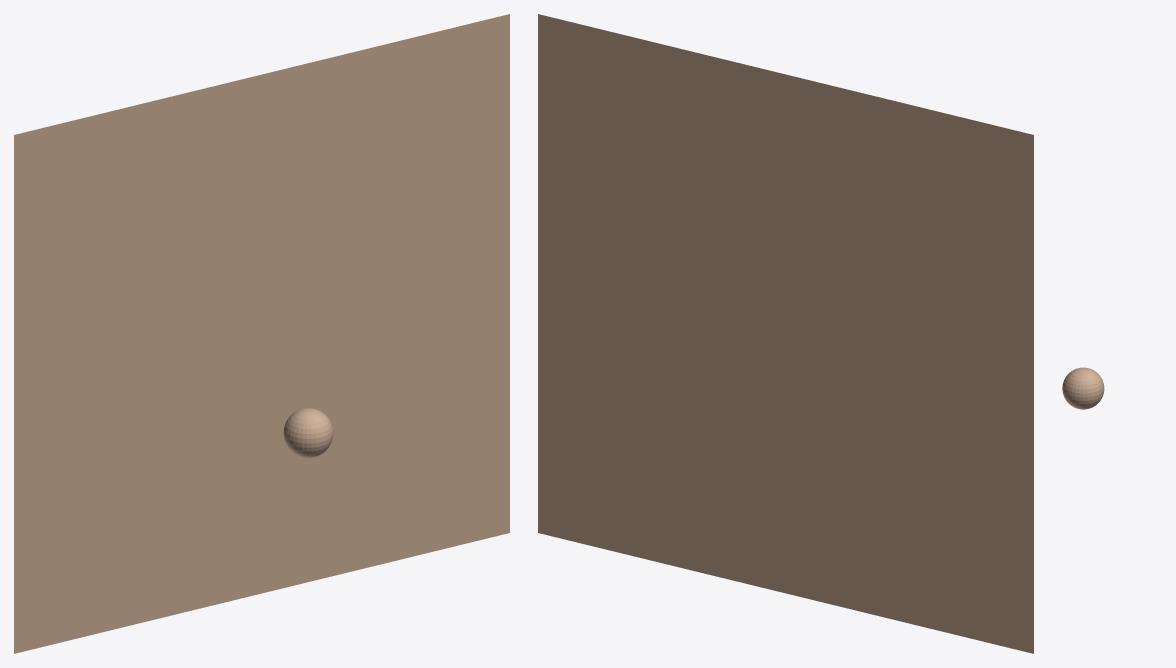
The picture shows the model from 3 angles, left to right: view 1: azimuth 30°, elevation 25°; view 2: azimuth 150°, elevation 25°; view 3: azimuth 270°, elevation 25°; orthographic projection. The views are drawn at different scales.
Parts seen in each view (by area): view 1: backdrop_studio_dark, head_neck_shoulder_eye_brow_nose_mouth_ear_hair_pedestal_blo; view 2: backdrop_studio_dark; view 3: head_neck_shoulder_eye_brow_nose_mouth_ear_hair_pedestal_blo.
Boxes of the visible parts, left/top/right/bottom form: backdrop_studio_dark: left=14, top=14, right=509, bottom=653; head_neck_shoulder_eye_brow_nose_mouth_ear_hair_pedestal_blo: left=283, top=408, right=333, bottom=457; backdrop_studio_dark: left=538, top=14, right=1033, bottom=653; head_neck_shoulder_eye_brow_nose_mouth_ear_hair_pedestal_blo: left=1062, top=367, right=1104, bottom=409.
Size of the model in its own units: 16 by 16 by 3.3.
